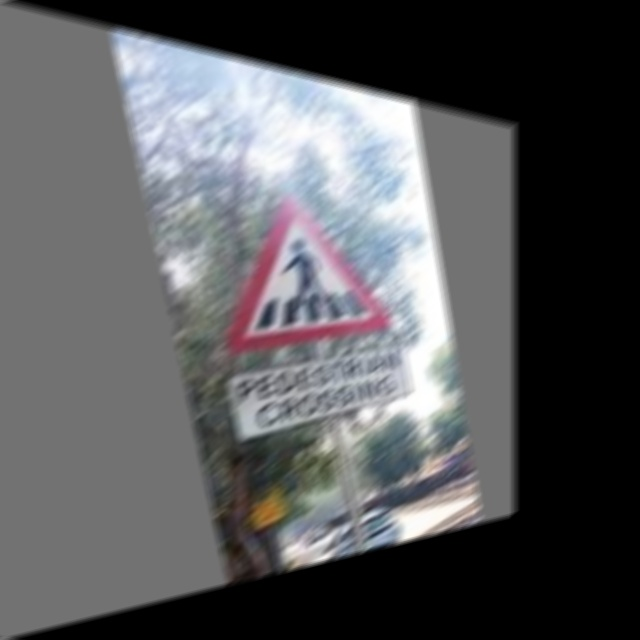Pedestrian_Crossing: (202, 163, 395, 356)
